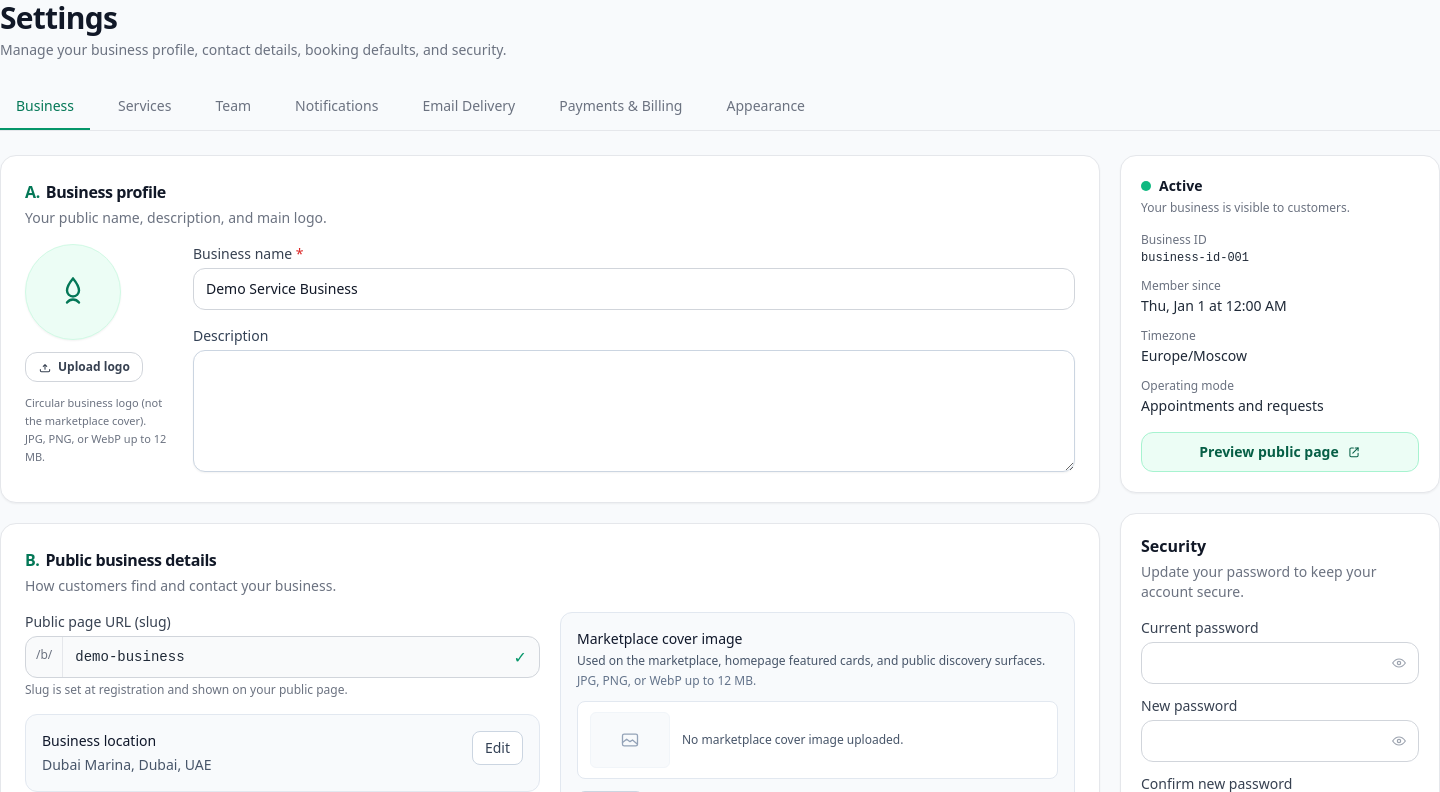
it: admin business location settings › opens location form when Edit is clicked
This screenshot has width=1440, height=792.
What coordinates should you click on to do the following:
click the button with test id "admin-business-location-edit"
I would click on:
 (497, 748)
Its box is [472,731,523,765].
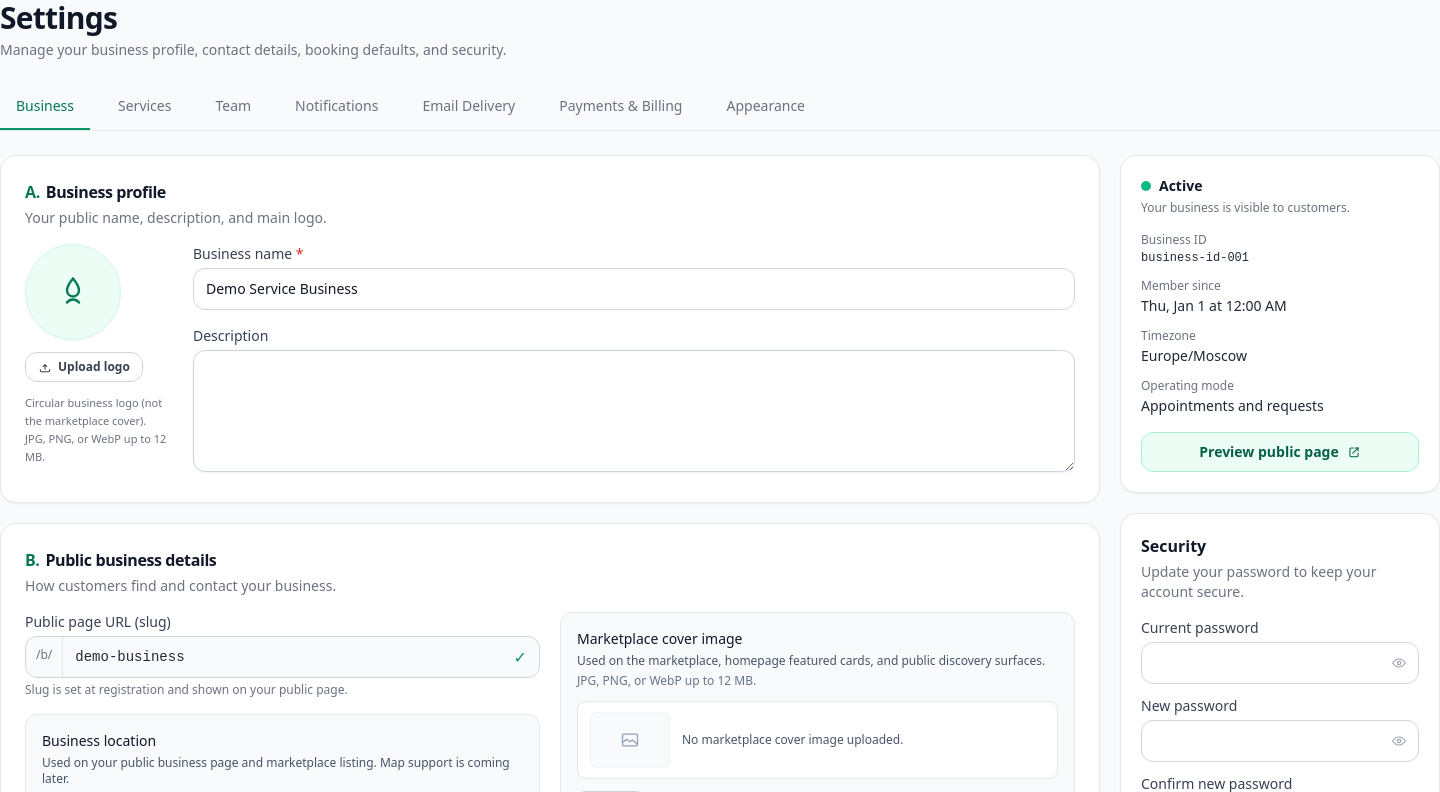
Expected: the text "Used on your public business page and marketplace listing" is shown, [42,754,510,787]
